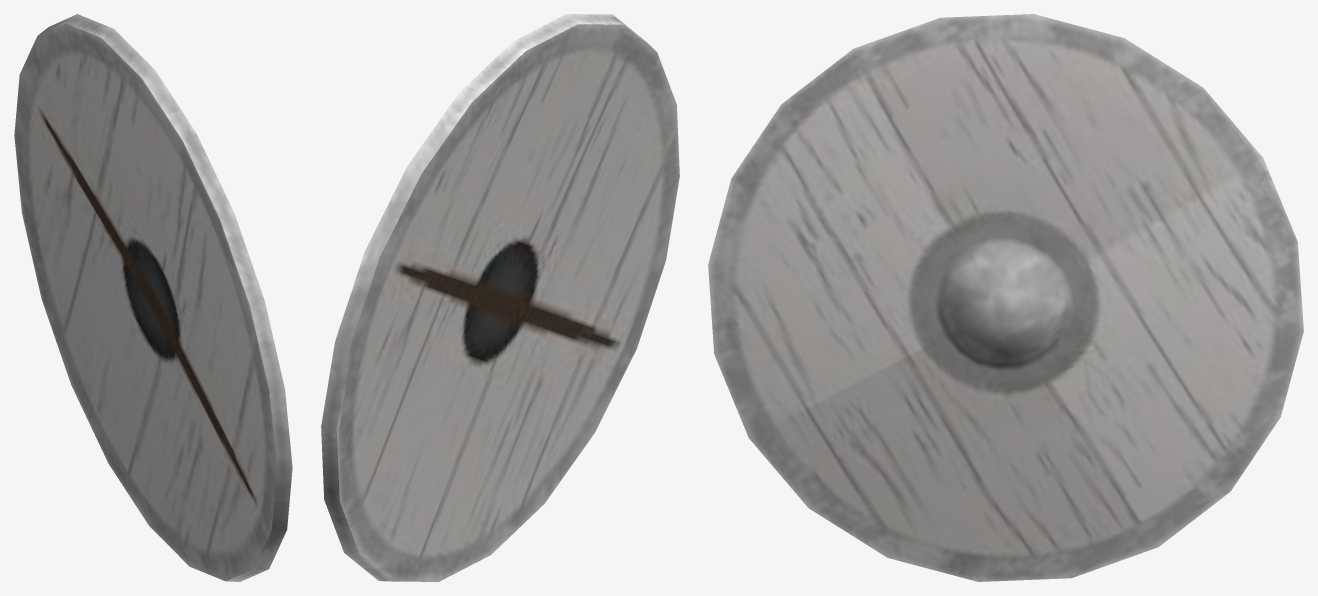
File: rider-shield-slice-disablot.glb
The picture shows the model from 3 angles, left to right: view 1: azimuth 30°, elevation 25°; view 2: azimuth 150°, elevation 25°; view 3: azimuth 270°, elevation 25°; orthographic projection. The views are drawn at different scales.
Size of the model in its own units: 0.1253 by 0.6503 by 0.6533.
Materials: 1 (1 with a texture image).
